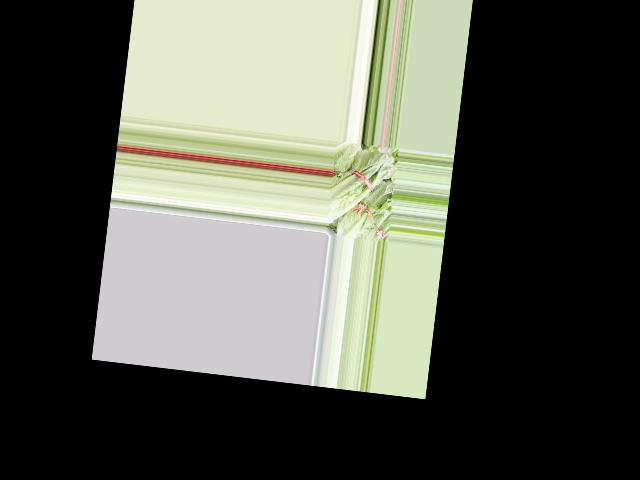lettuce: (326, 144, 395, 229)
